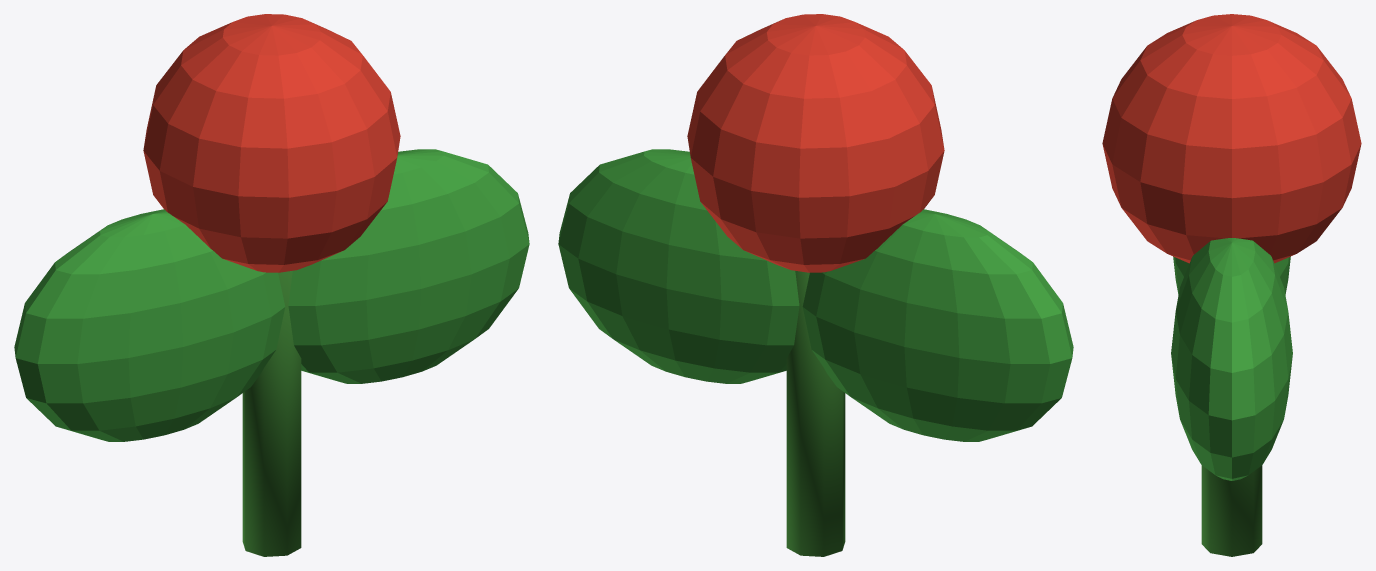
File: crop_mature.glb
The picture shows the model from 3 angles, left to right: view 1: azimuth 30°, elevation 25°; view 2: azimuth 150°, elevation 25°; view 3: azimuth 270°, elevation 25°; orthographic projection.
Parts seen in each view (by area): view 1: Fruit, Leaf, Leaf.001, Stem; view 2: Fruit, Leaf, Leaf.001, Stem; view 3: Fruit, Leaf.001, Stem, Leaf.
Boxes of the visible parts, x1,y1,x2,y2 form: Fruit: [143, 14, 400, 272]; Leaf: [14, 209, 285, 441]; Leaf.001: [288, 149, 529, 383]; Stem: [242, 271, 301, 556]; Fruit: [687, 14, 944, 272]; Leaf: [802, 209, 1073, 441]; Leaf.001: [558, 149, 799, 383]; Stem: [786, 271, 845, 556]; Fruit: [1102, 14, 1361, 263]; Leaf.001: [1171, 238, 1292, 480]; Stem: [1201, 465, 1262, 556]; Leaf: [1173, 256, 1290, 294].
Size of the model in its own units: 0.776 by 0.75 by 0.34.
